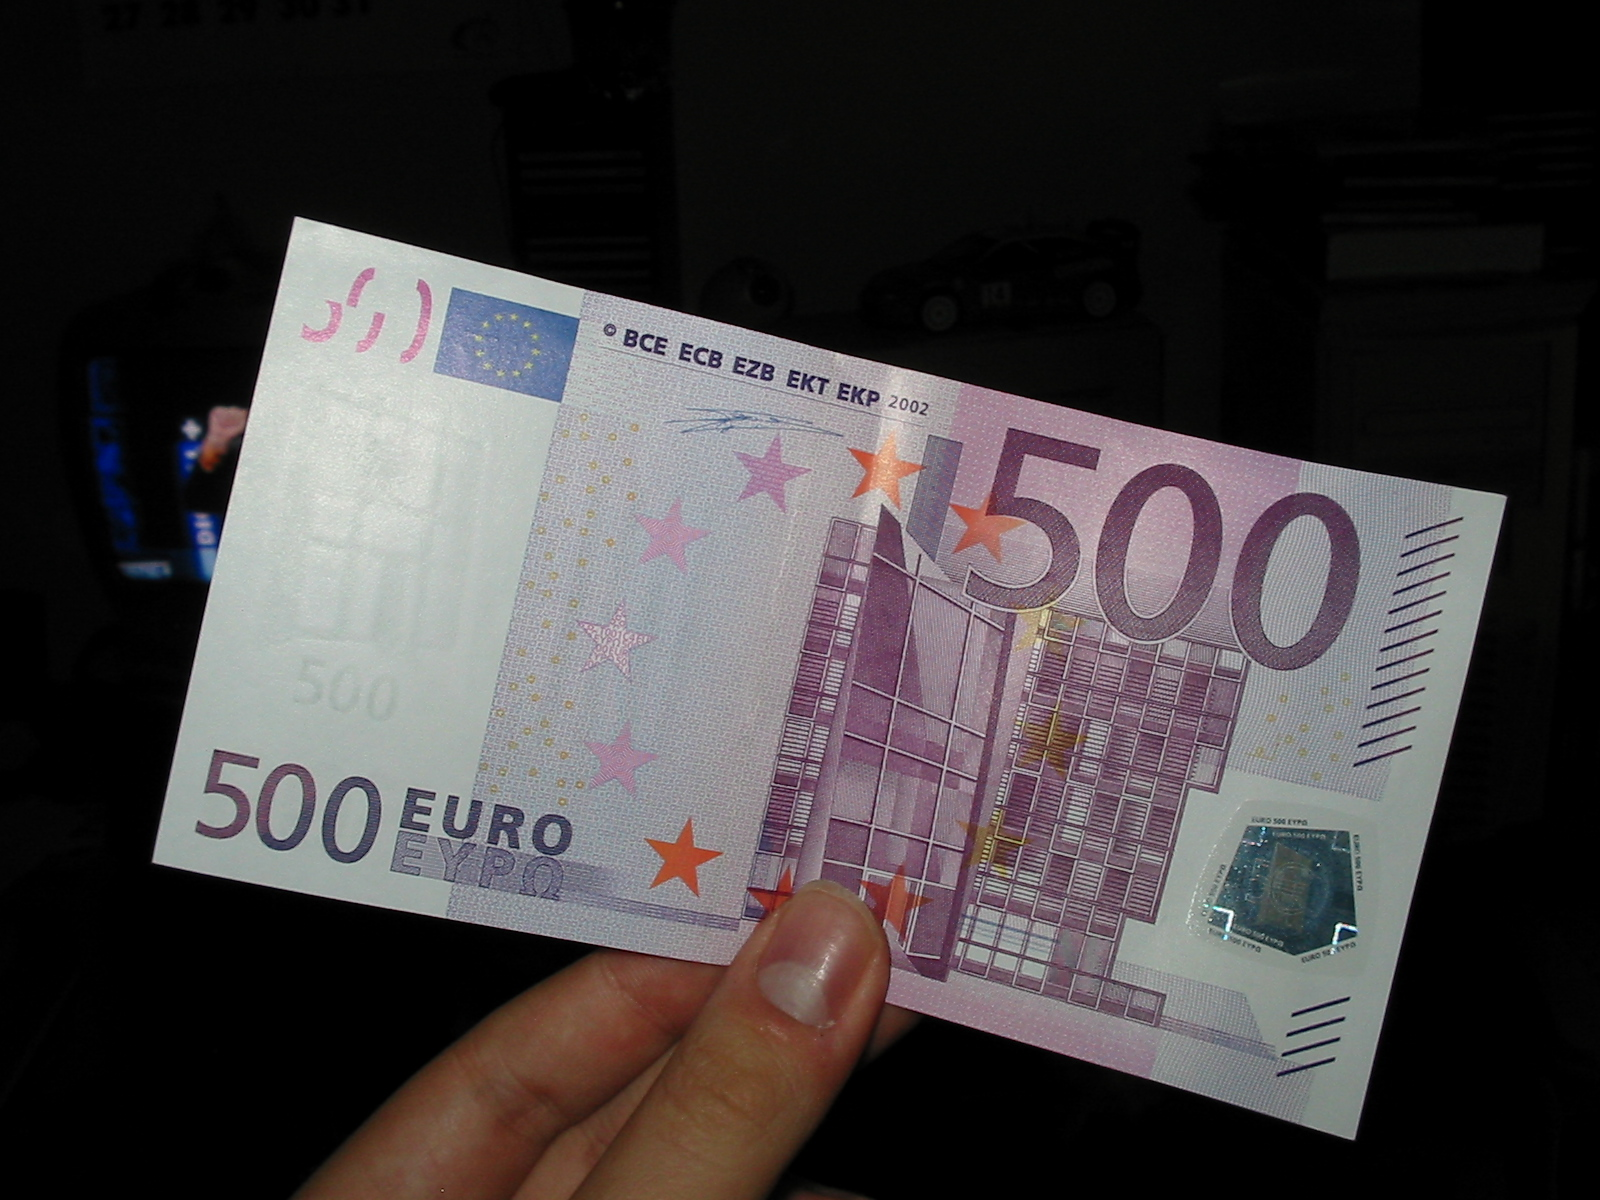billete: (150, 218, 1506, 1142)
